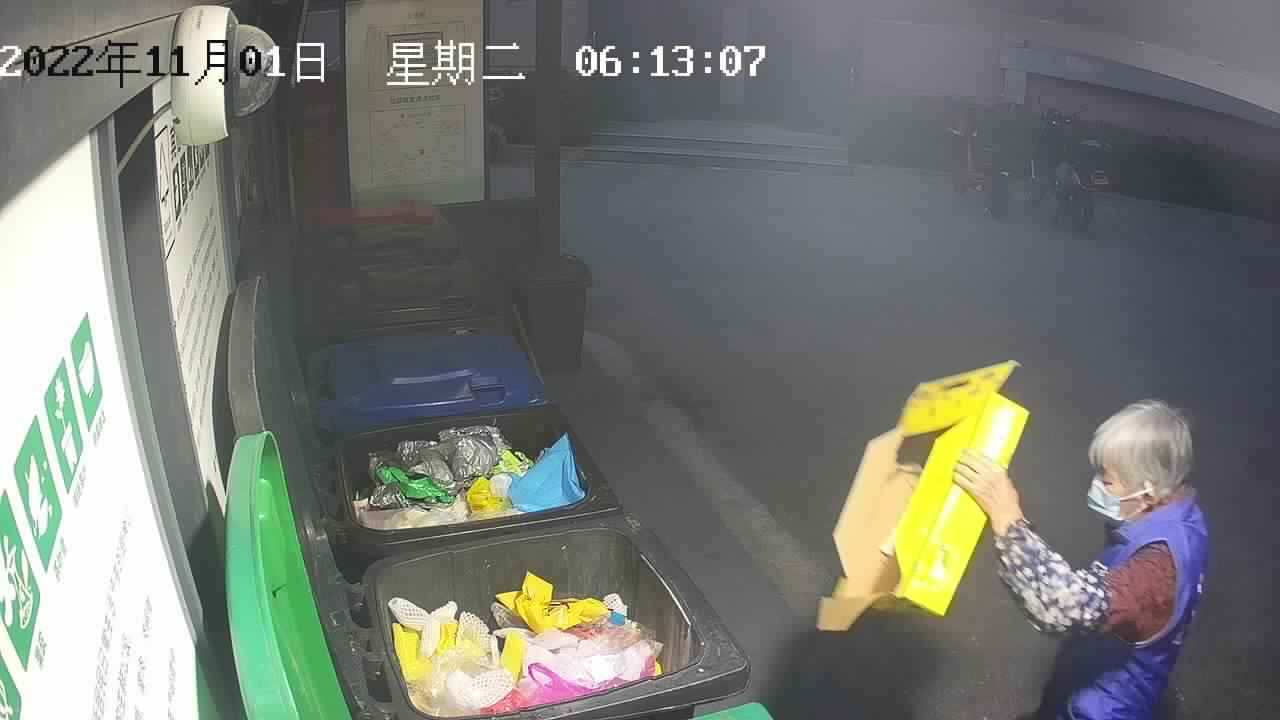worker: (951, 397, 1211, 720)
zhizhipin: (814, 357, 1032, 631)
